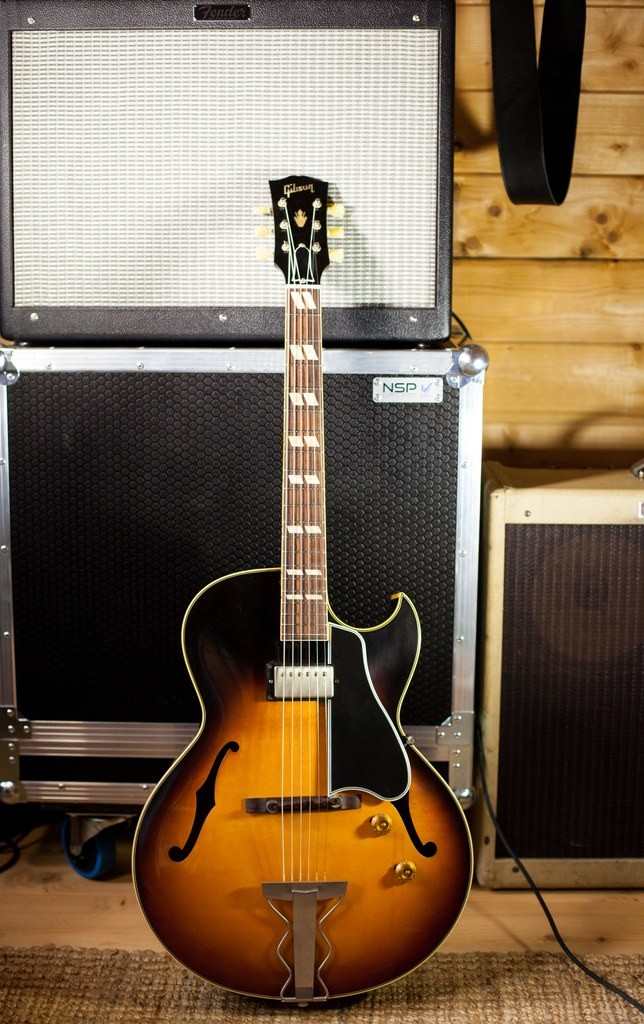guitar: (131, 175, 475, 1006)
